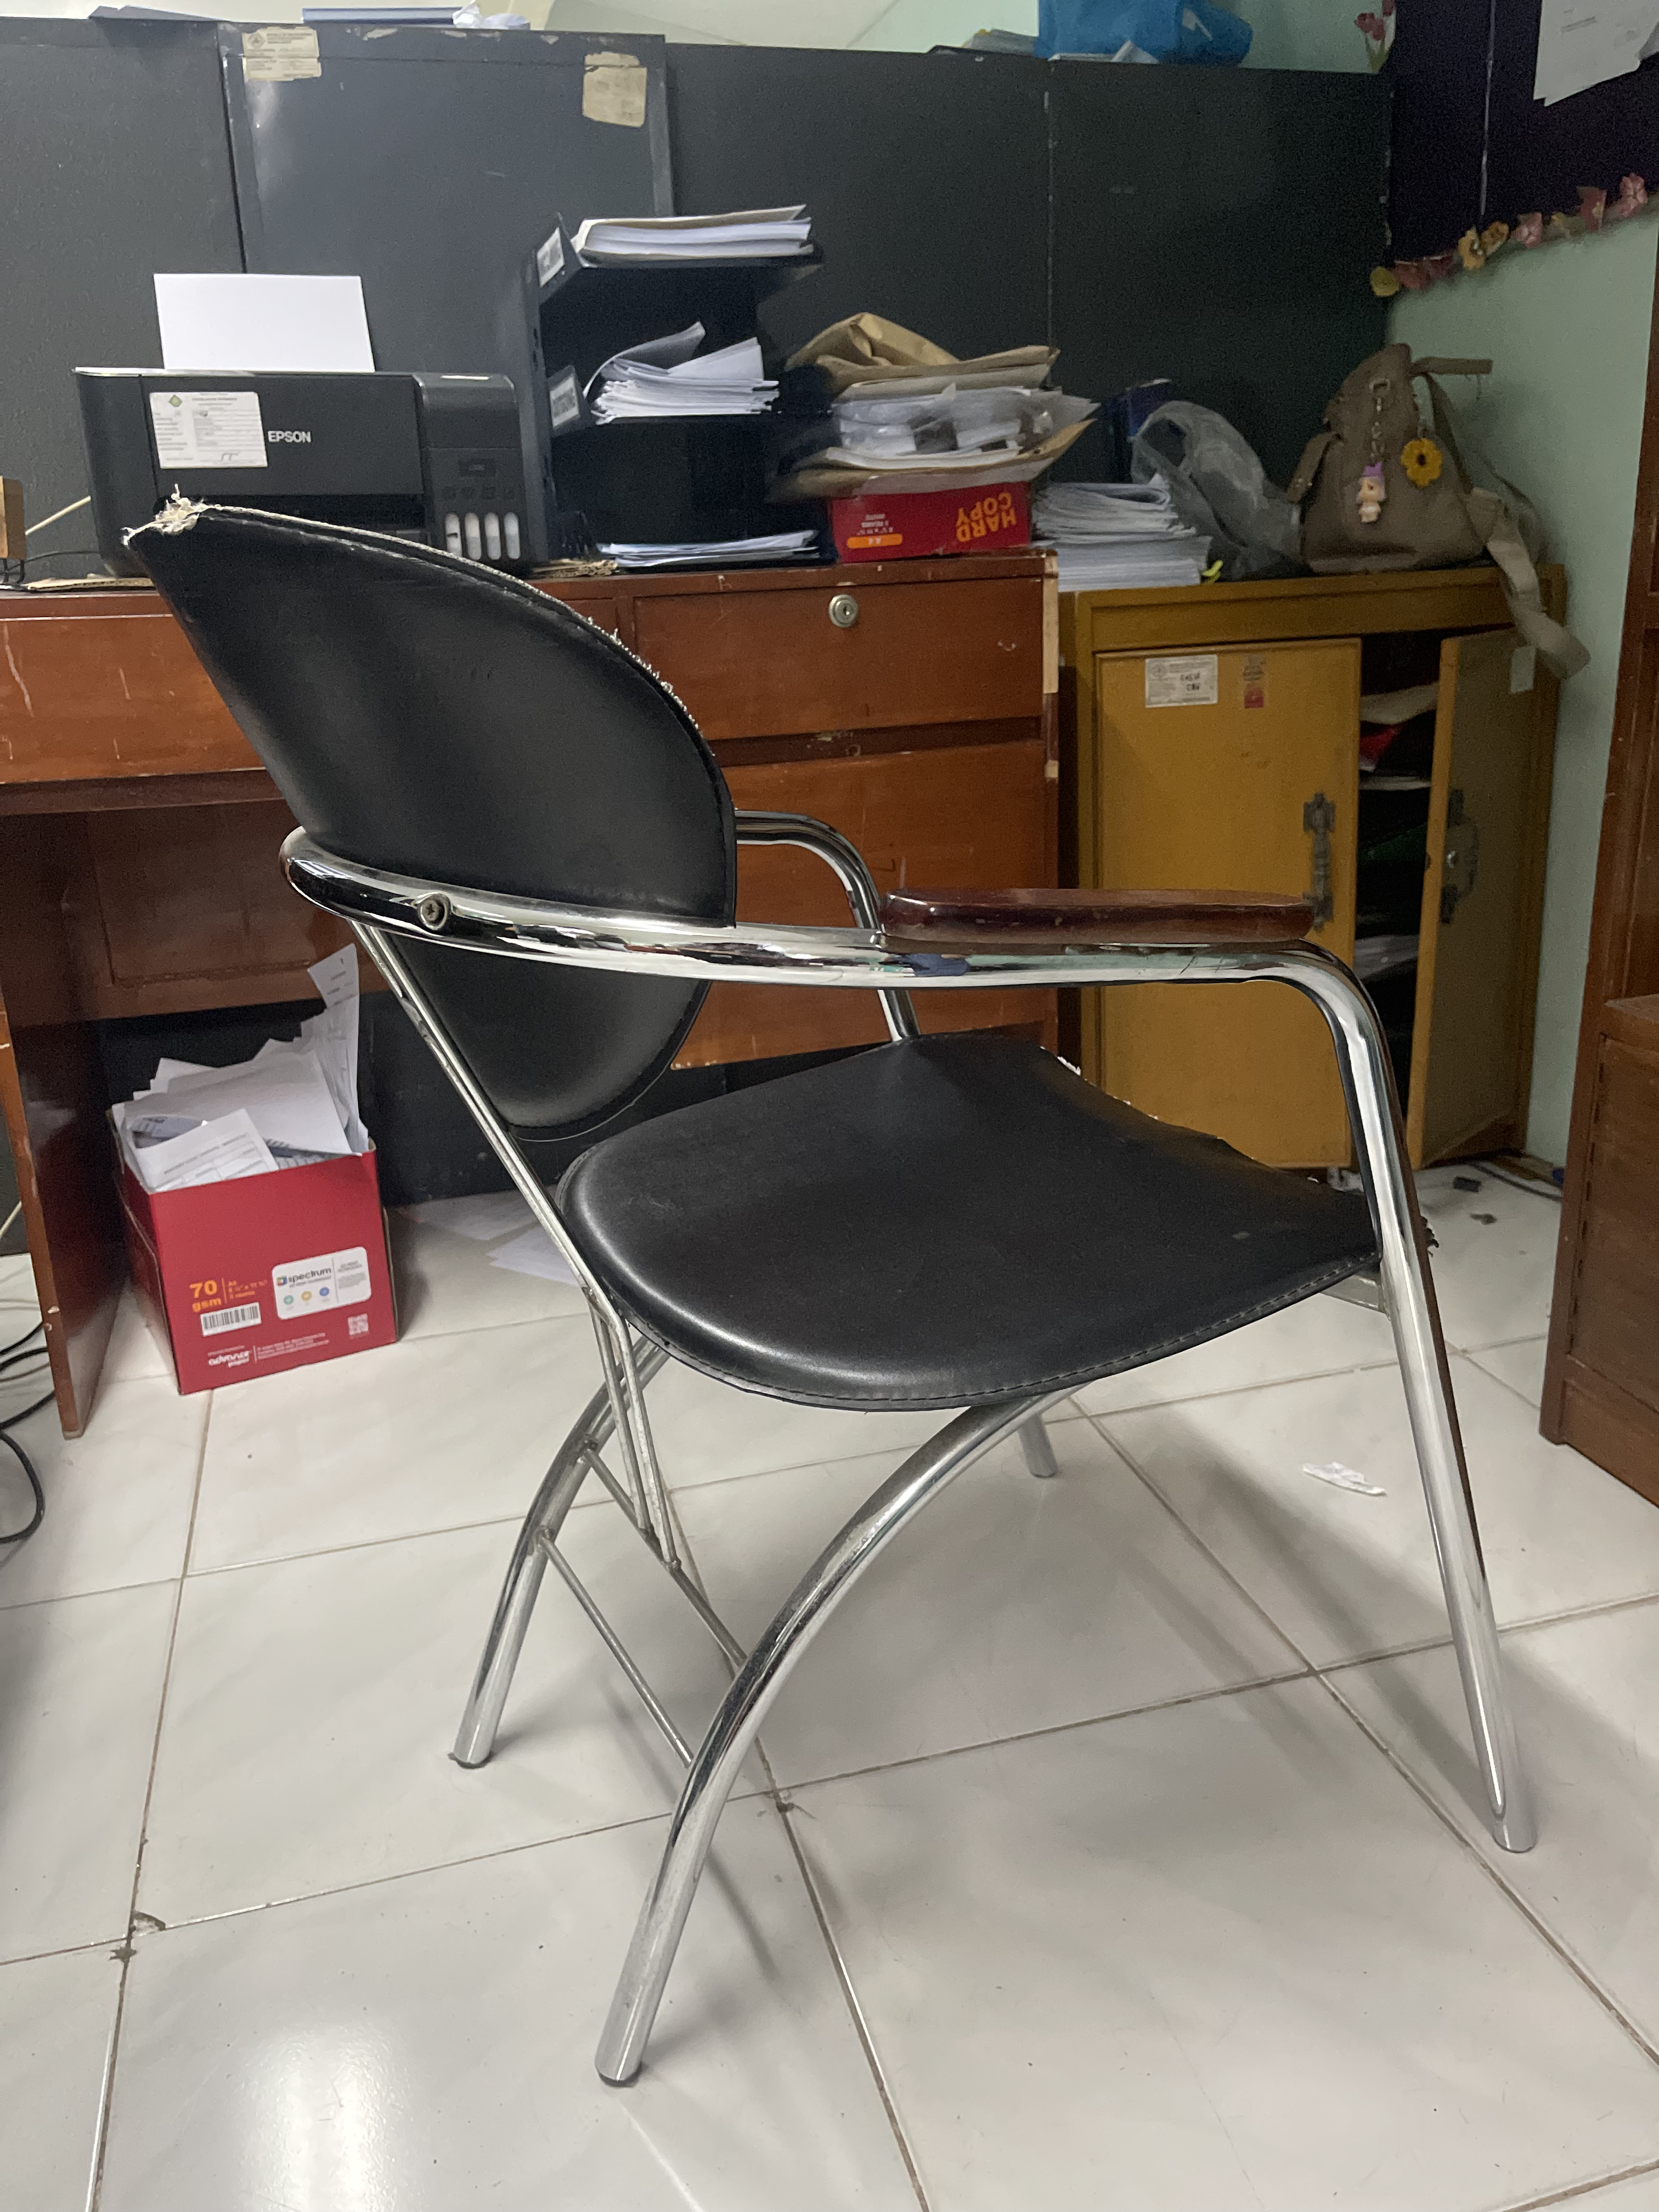chair1: (120, 488, 1554, 2109)
